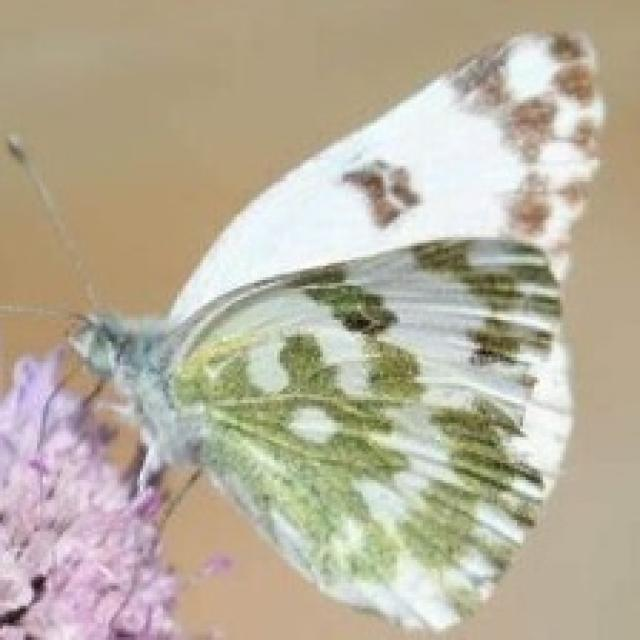butterfly: (0, 26, 606, 634)
